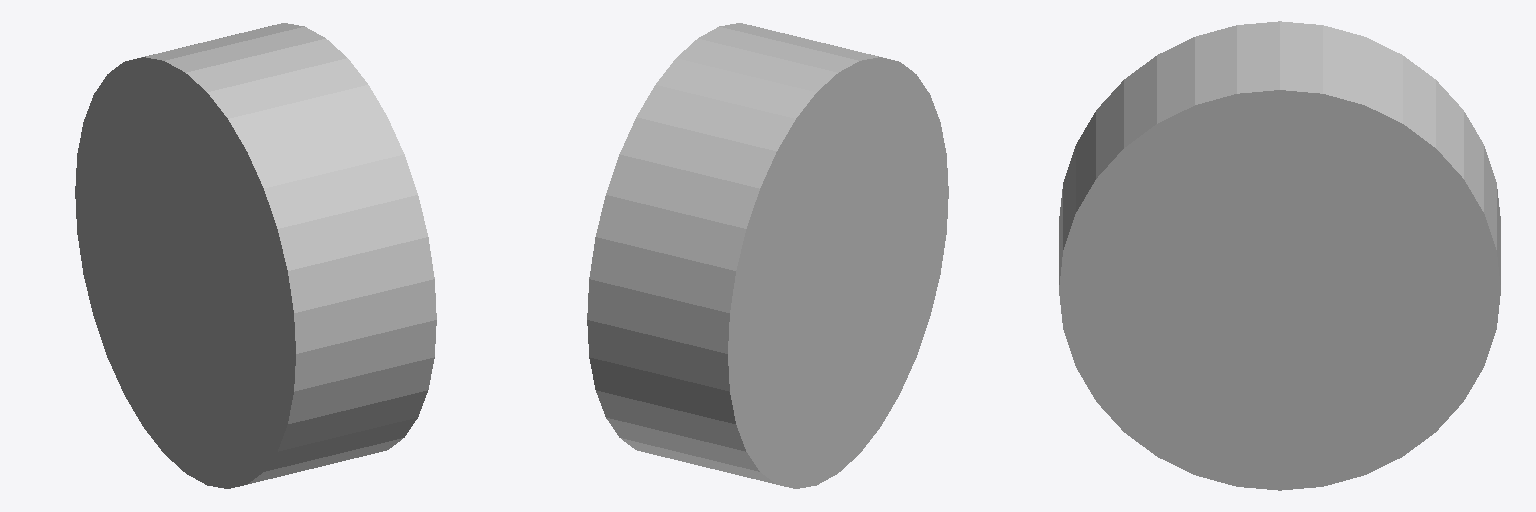
The model's file is wheel.obj.
3 renders of one model, left to right at view 1: azimuth 30°, elevation 25°; view 2: azimuth 150°, elevation 25°; view 3: azimuth 270°, elevation 25°, orthographic.
Visible parts, largest first — view 1: Circle; view 2: Circle; view 3: Circle.
Part boxes in pixels (x1,y1,x2,y2): Circle: (75, 23, 436, 488); Circle: (587, 23, 948, 488); Circle: (1059, 21, 1500, 490).
Bounding box in the file's own units: 0.2493 × 0.6786 × 0.6786.